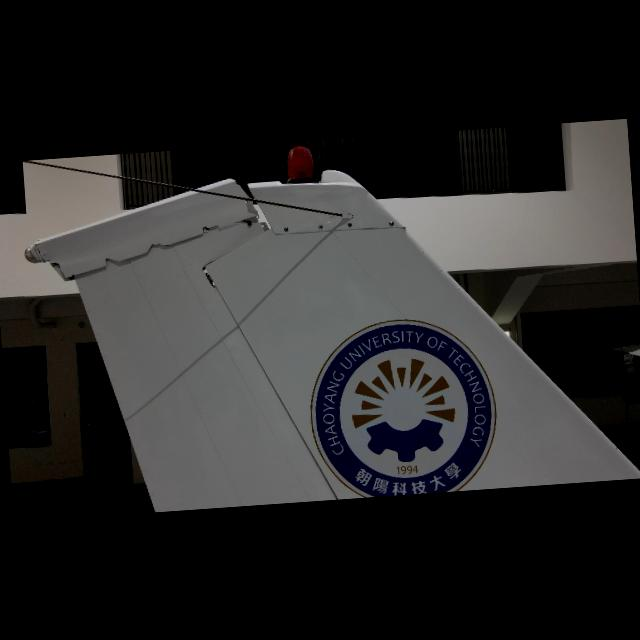Missing Fastener: (260, 222, 264, 228), (244, 199, 249, 203), (256, 214, 260, 218)
